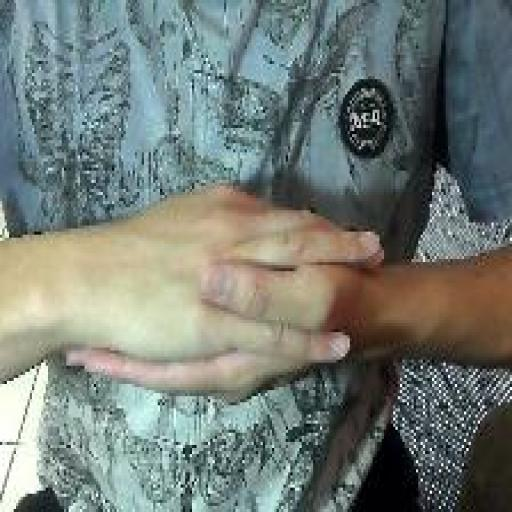Saru -monkey-: (62, 178, 391, 413)
